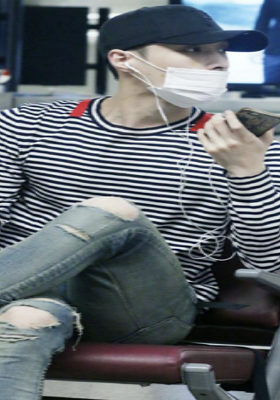mask_weared_incorrect: (128, 43, 230, 108)
